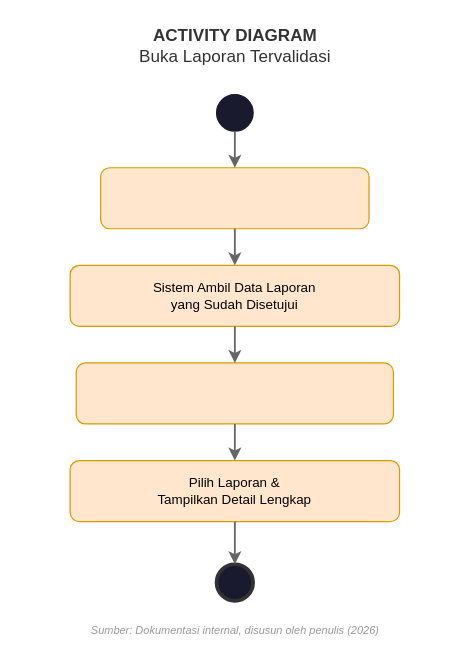
The diagram is 468 pixels wide and 664 high, and some of its shapes have lost their labels. The shapes that lost their labels are listed below. From the top down, each one's centre as x and y in pixels, then its label:
At [234,198]: "Klik Menu Laporan Tervalidasi".
At [234,393]: "Tampilkan Daftar Laporan Tervalidasi".
